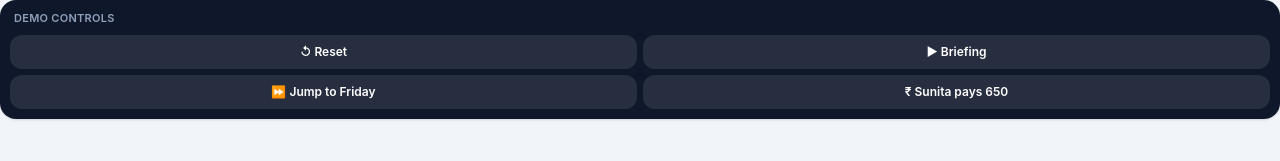
Test case: DemoBar › simulated payment reports the closed udhaar
This screenshot has width=1280, height=161.
What coordinates should you click on to do the following:
click the button "₹ Sunita pays 650"
I would click on:
 (956, 92)
Its box is [643,74,1270,108].
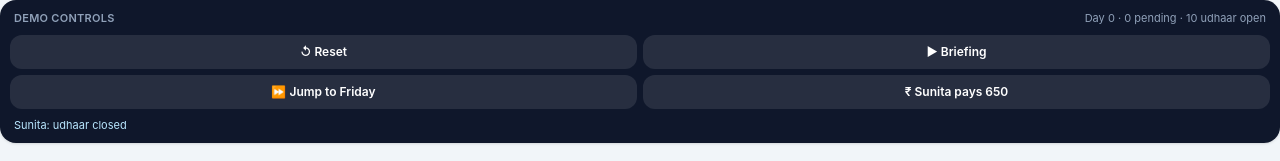
Now the text "Sunita: udhaar closed" is shown, box [14,118,127,132]
